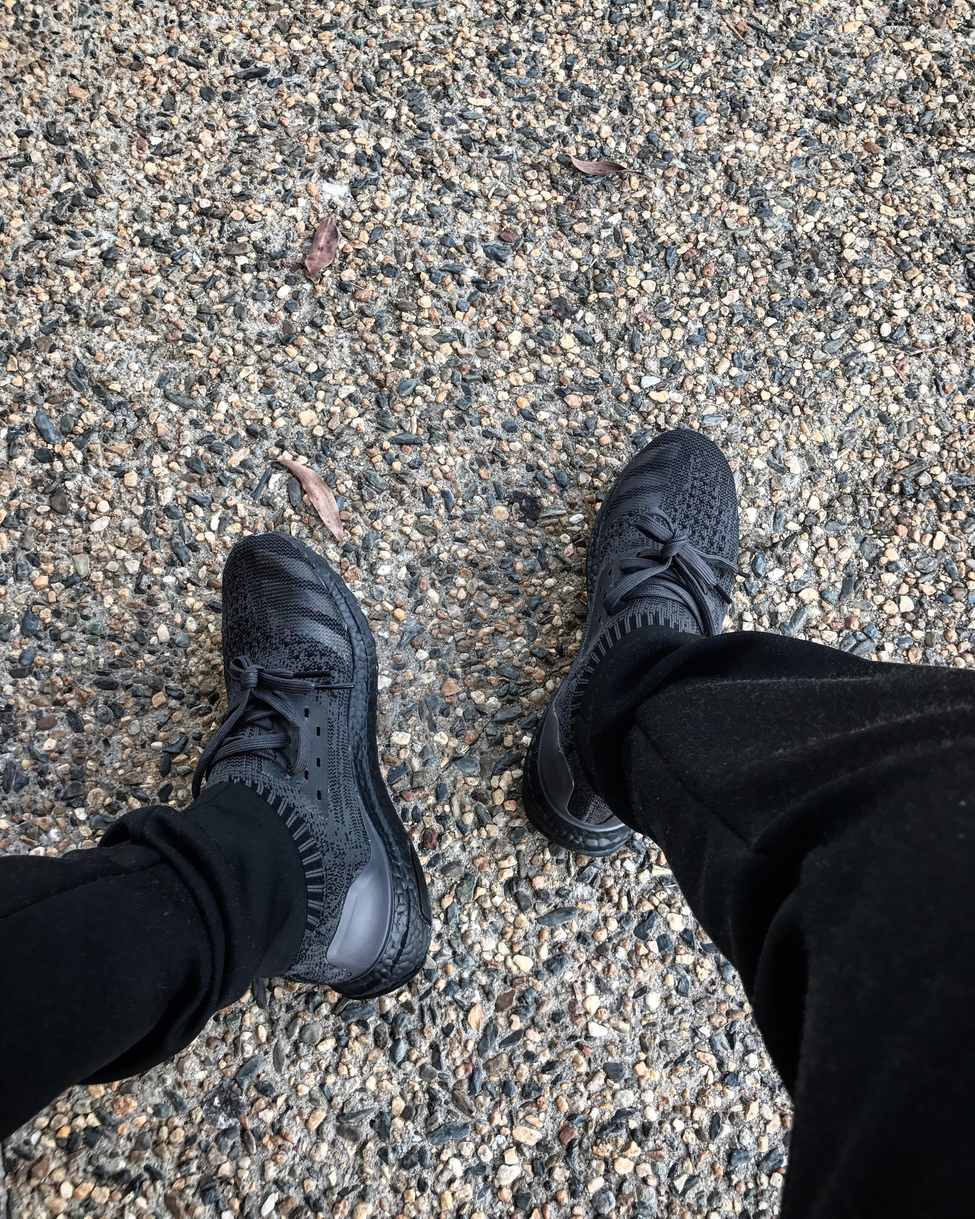sneaker: (537, 361, 871, 990), (133, 448, 462, 1009)
